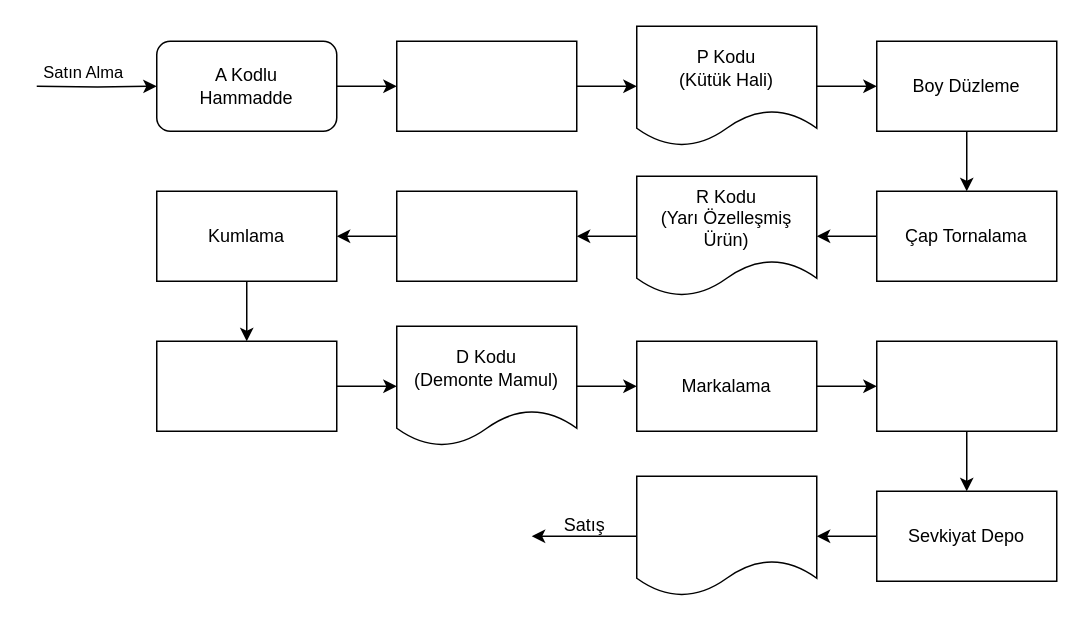
This 1083x623 diagram has some shape labels left out. The box of each missing label's shape, as (x1, y1, x2, y2) in pixels:
M Kodu (Mamul): (635, 475, 817, 596)
Montaj: (875, 340, 1057, 431)
Taşlama: (155, 340, 337, 431)
Testere Kesim: (395, 40, 577, 131)
Uç Yuvası: (395, 190, 577, 281)
